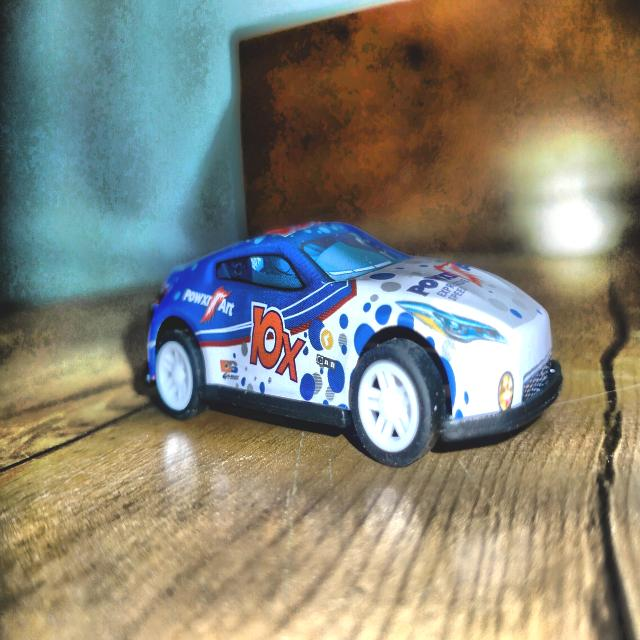Car: (146, 224, 562, 466)
